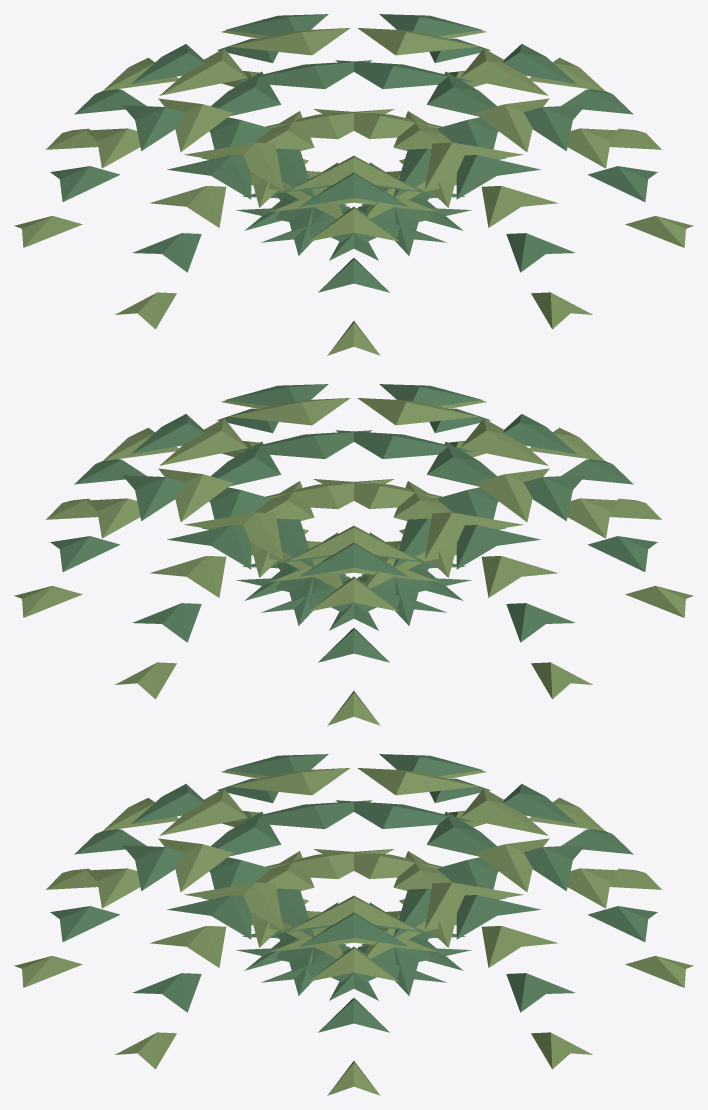
The model's file is fern.glb.
3 renders of one model, top to bottom at view 1: azimuth 30°, elevation 25°; view 2: azimuth 150°, elevation 25°; view 3: azimuth 270°, elevation 25°, orthographic.
Parts seen in each view (by area): view 1: Fern leaflet; view 2: Fern leaflet; view 3: Fern leaflet.
Part boxes in pixels (left/top/right/bottom): Fern leaflet: left=14, top=14, right=693, bottom=355; Fern leaflet: left=14, top=384, right=693, bottom=725; Fern leaflet: left=14, top=754, right=693, bottom=1095.
Size of the model in its own units: 1.94 by 0.3814 by 1.97.
